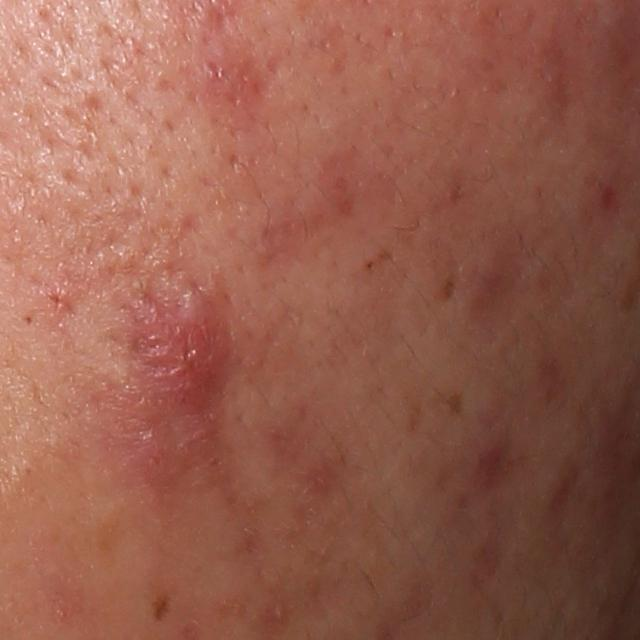nevus: (148, 586, 174, 625)
